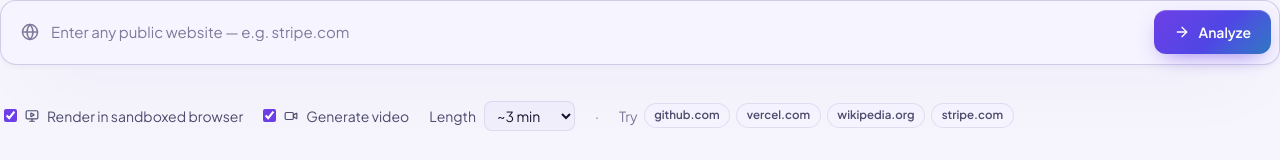
Analyze form › shows the server error message when the request is rejected
The width and height of the screenshot is (1280, 160).
Type "example.org" into the field with test id "url-input" at (593, 32), box [51, 9, 1134, 56]
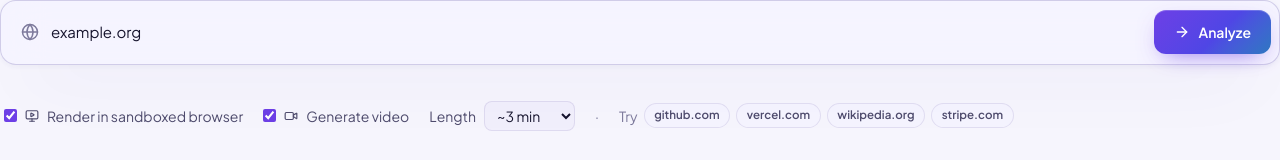
Click the button with test id "analyze-button" at (1213, 32), box [1154, 10, 1271, 54]
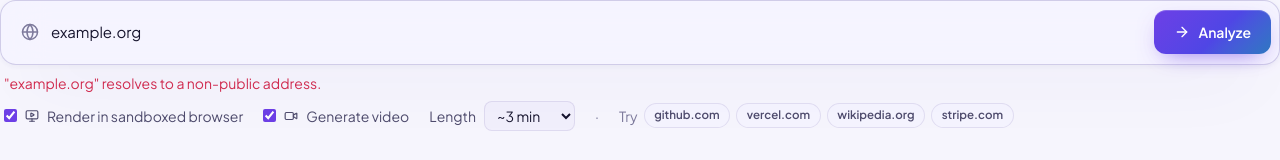
Check: the message with test id "submit-error" shows "non-public address", box [4, 74, 321, 92]
